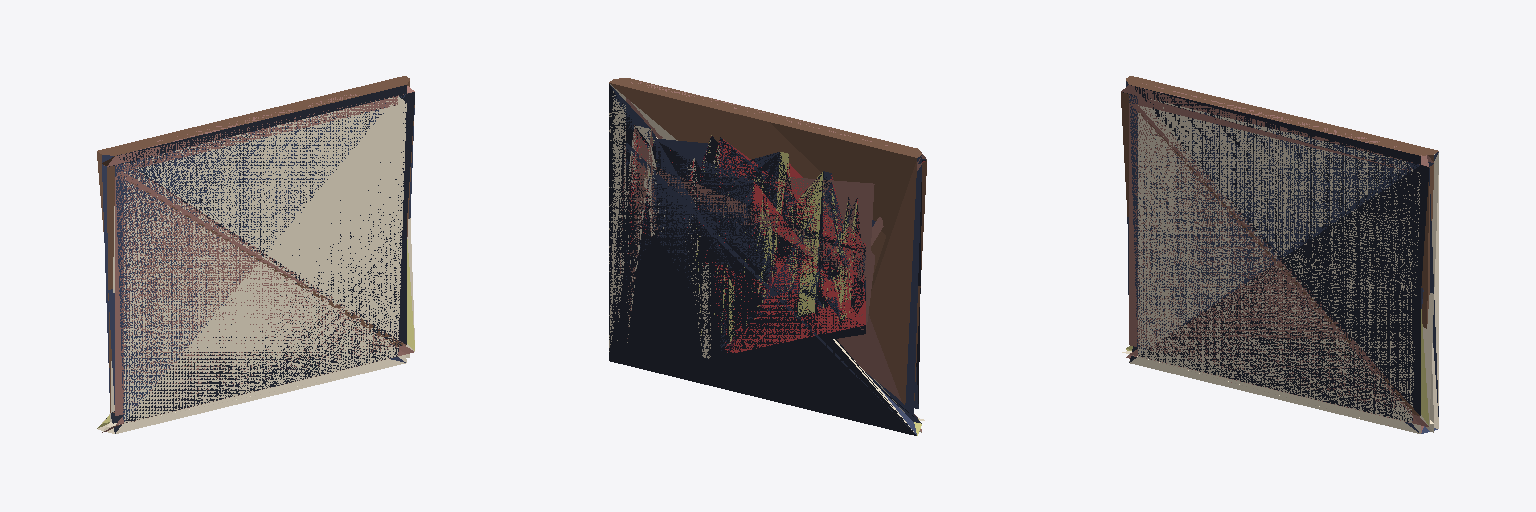
3 renders of one model, left to right at view 1: azimuth 30°, elevation 25°; view 2: azimuth 150°, elevation 25°; view 3: azimuth 330°, elevation 25°, orthographic.
Size of the model in its own units: 36 by 31 by 2.
1 materials, 1 textured.